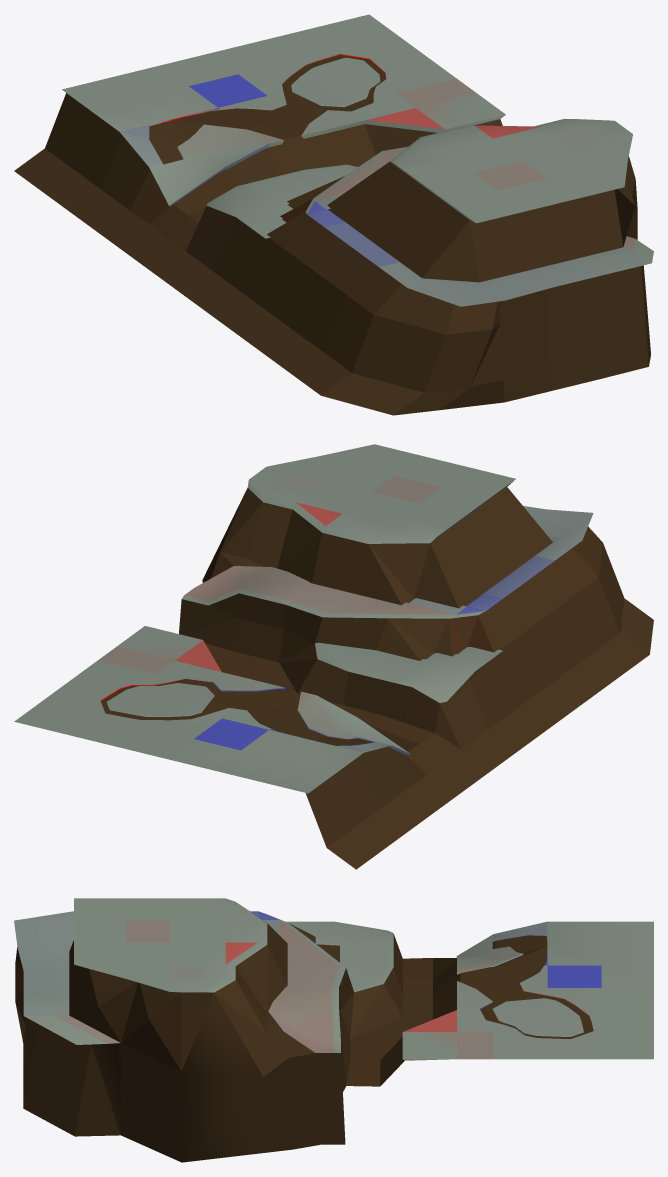
File: levelBetaAOBake.fbx
3 renders of one model, top to bottom at view 1: azimuth 30°, elevation 25°; view 2: azimuth 150°, elevation 25°; view 3: azimuth 270°, elevation 25°, orthographic. The views are drawn at different scales.
Visible parts, largest first — view 1: Ground, Walkable; view 2: Ground, Walkable; view 3: Ground, Walkable.
Boxes of the visible parts, x1,y1,x2,y2 form: Ground: [14, 54, 650, 415]; Walkable: [62, 14, 653, 306]; Ground: [100, 487, 653, 869]; Walkable: [14, 444, 593, 793]; Ground: [15, 913, 593, 1162]; Walkable: [14, 898, 653, 1060].
Bounding box in the file's own units: 21850 × 10145 × 35457.
